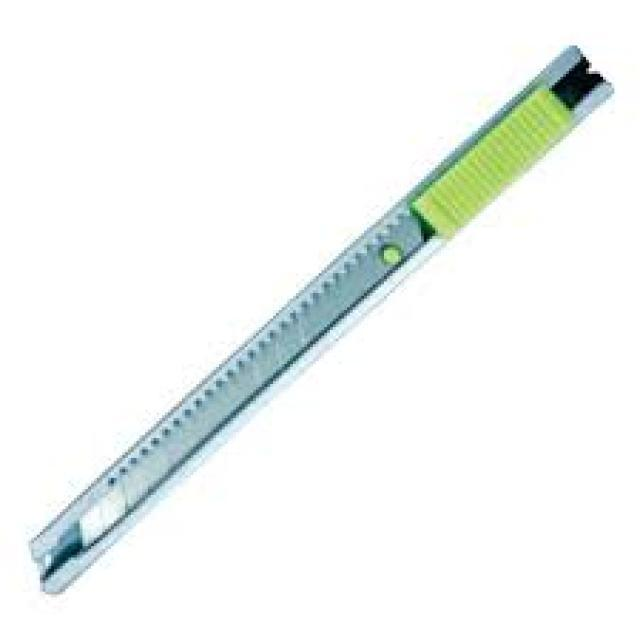cutter: (24, 36, 616, 598)
